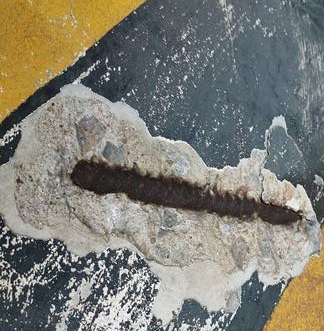Exposed reinforcement: (71, 159, 303, 225)
Spalling: (1, 82, 324, 327)
